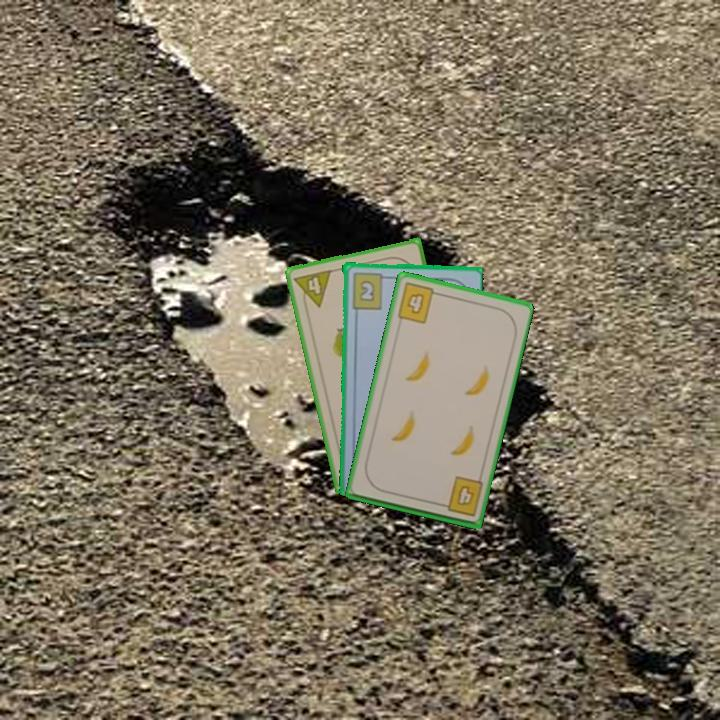2b: (348, 269, 391, 311)
4b: (393, 279, 443, 326), (435, 473, 486, 519)
4p: (291, 266, 335, 313)
